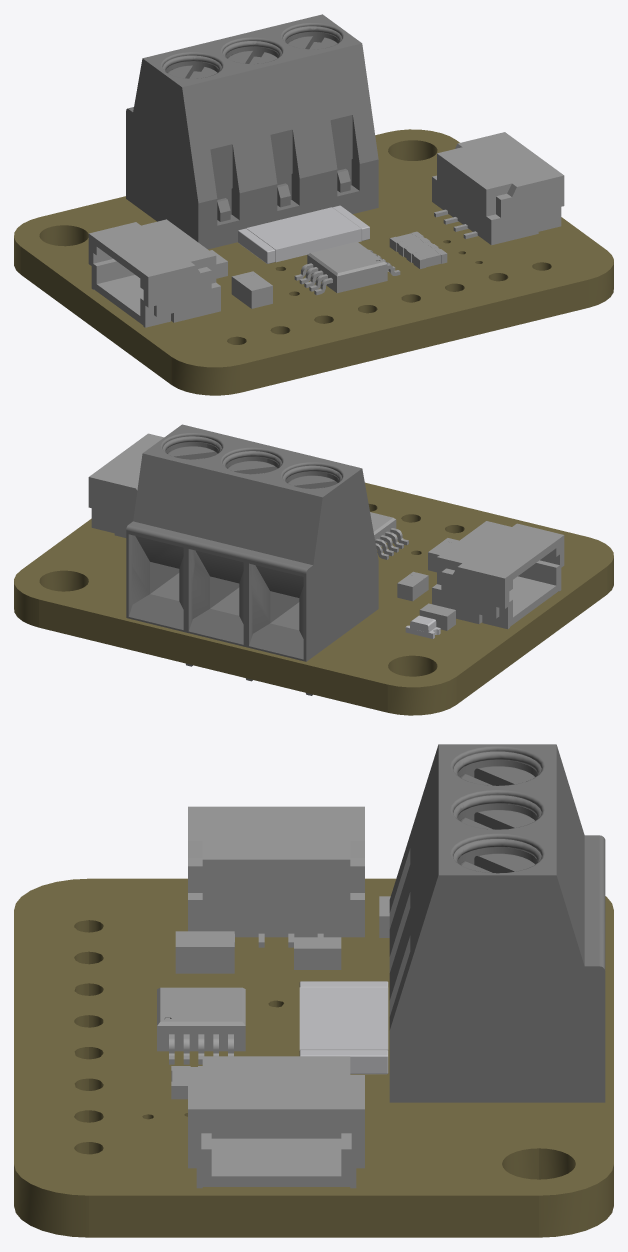
Rendered from ada-6340.glb.
3 views of the same model, one above another, from view 1: azimuth 30°, elevation 25°; view 2: azimuth 150°, elevation 25°; view 3: azimuth 270°, elevation 25° (orthographic). The views are drawn at different scales.
Parts seen in each view (by area): view 1: 0.16666666666666666_0.16666666666666666_0.08333333333333333_, 0.25_0.25_0.25_0, 0.3333333333333333_0.3333333333333333_0.3333333333333333_0, 0.5833333333333334_0.5833333333333334_0.5833333333333334_0.8; view 2: 0.25_0.25_0.25_0, 0.16666666666666666_0.16666666666666666_0.08333333333333333_, 0.3333333333333333_0.3333333333333333_0.3333333333333333_0, 0.5833333333333334_0.5833333333333334_0.5833333333333334_0.8; view 3: 0.16666666666666666_0.16666666666666666_0.08333333333333333_, 0.25_0.25_0.25_0, 0.3333333333333333_0.3333333333333333_0.3333333333333333_0, 0.5833333333333334_0.5833333333333334_0.5833333333333334_0.8.
Boxes of the visible parts, bbox=[...] form: 0.16666666666666666_0.16666666666666666_0.08333333333333333_: bbox=[14, 129, 613, 395]; 0.25_0.25_0.25_0: bbox=[126, 14, 378, 249]; 0.3333333333333333_0.3333333333333333_0.3333333333333333_0: bbox=[88, 132, 564, 327]; 0.5833333333333334_0.5833333333333334_0.5833333333333334_0.8: bbox=[238, 205, 369, 263]; 0.25_0.25_0.25_0: bbox=[126, 424, 378, 695]; 0.16666666666666666_0.16666666666666666_0.08333333333333333_: bbox=[14, 482, 613, 715]; 0.3333333333333333_0.3333333333333333_0.3333333333333333_0: bbox=[88, 433, 564, 630]; 0.5833333333333334_0.5833333333333334_0.5833333333333334_0.8: bbox=[405, 615, 440, 638]; 0.16666666666666666_0.16666666666666666_0.08333333333333333_: bbox=[14, 878, 613, 1237]; 0.25_0.25_0.25_0: bbox=[389, 744, 605, 1102]; 0.3333333333333333_0.3333333333333333_0.3333333333333333_0: bbox=[157, 806, 390, 1188]; 0.5833333333333334_0.5833333333333334_0.5833333333333334_0.8: bbox=[299, 981, 388, 1074].
Bounding box in the file's own units: 2.54 × 1.21 × 2.03.
